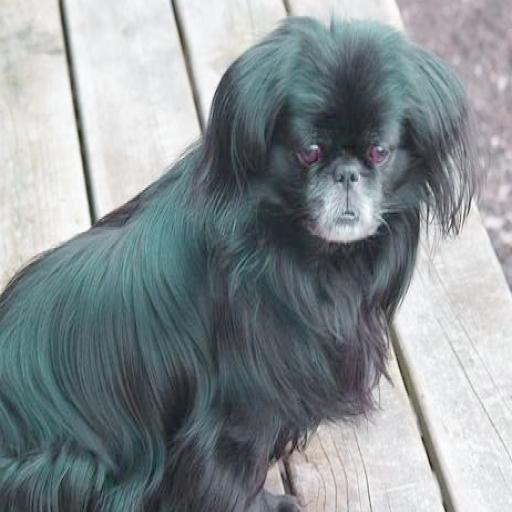dog_face: (216, 22, 478, 255)
